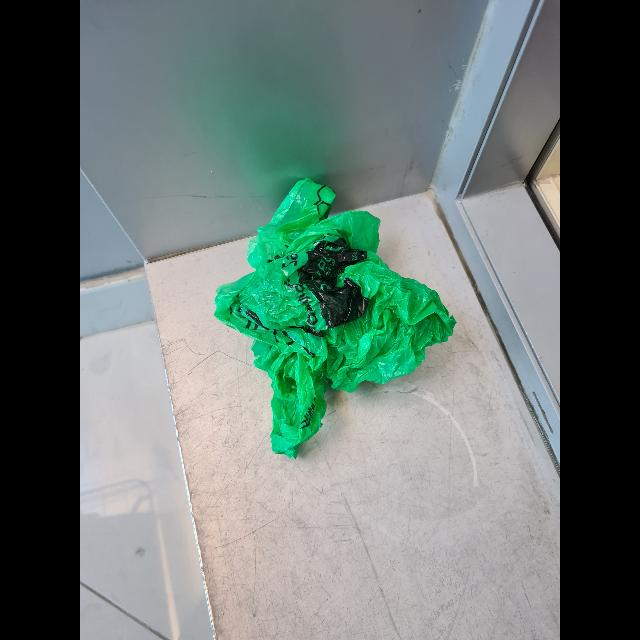plastic_bag: (209, 178, 463, 452)
